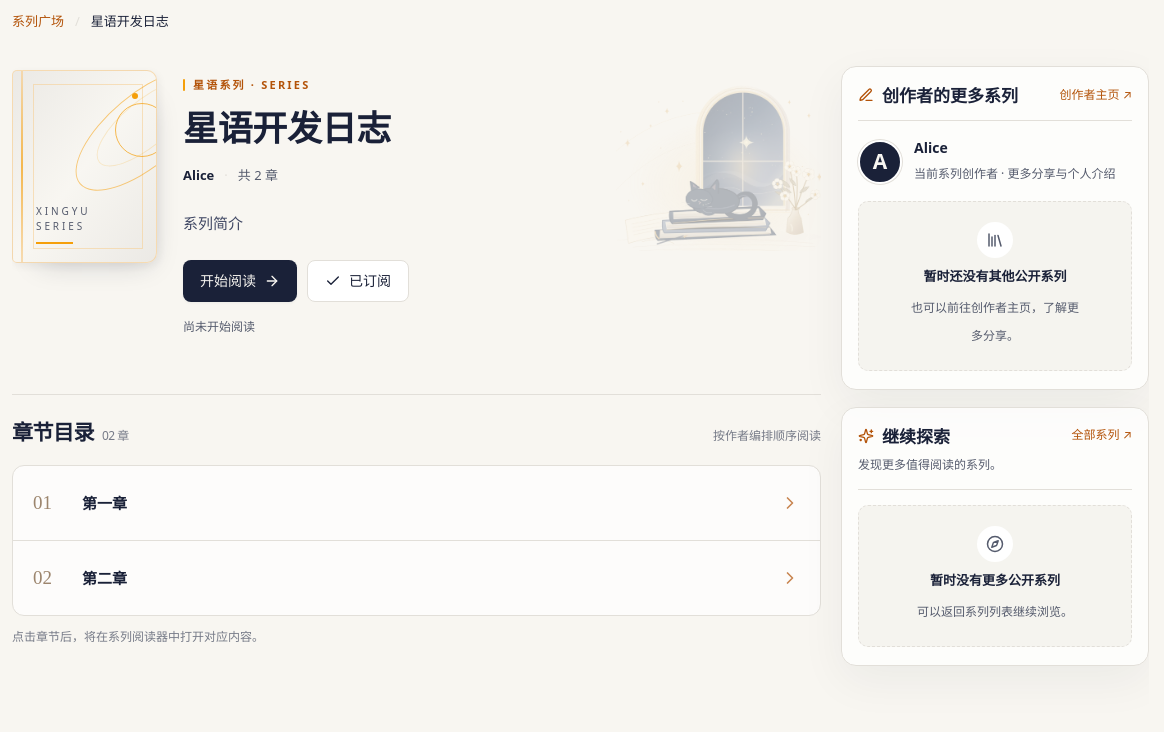
Test: PublicSeriesDetailPage › unsubscribes via the toggle and returns to the subscribe label
This screenshot has width=1164, height=732.
Click the button "已订阅": (358, 281) [307,260,409,302]
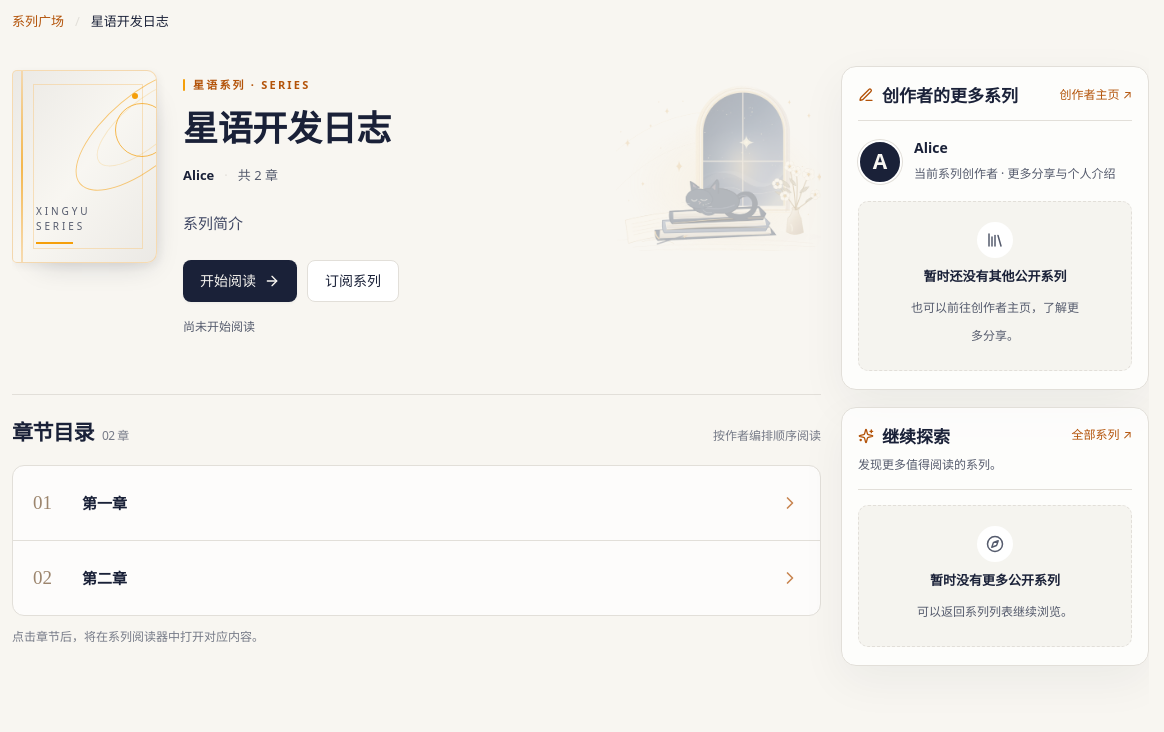
Result: the button "订阅系列" is shown at [307,260,399,302]
